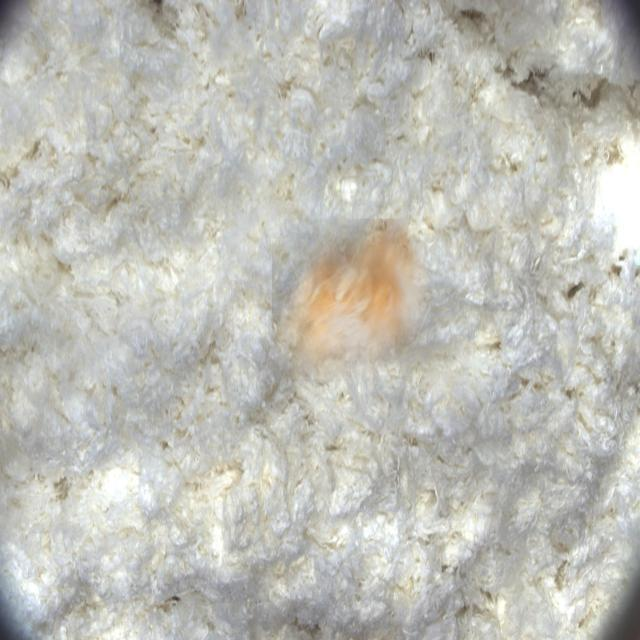dust: (272, 219, 426, 380)
